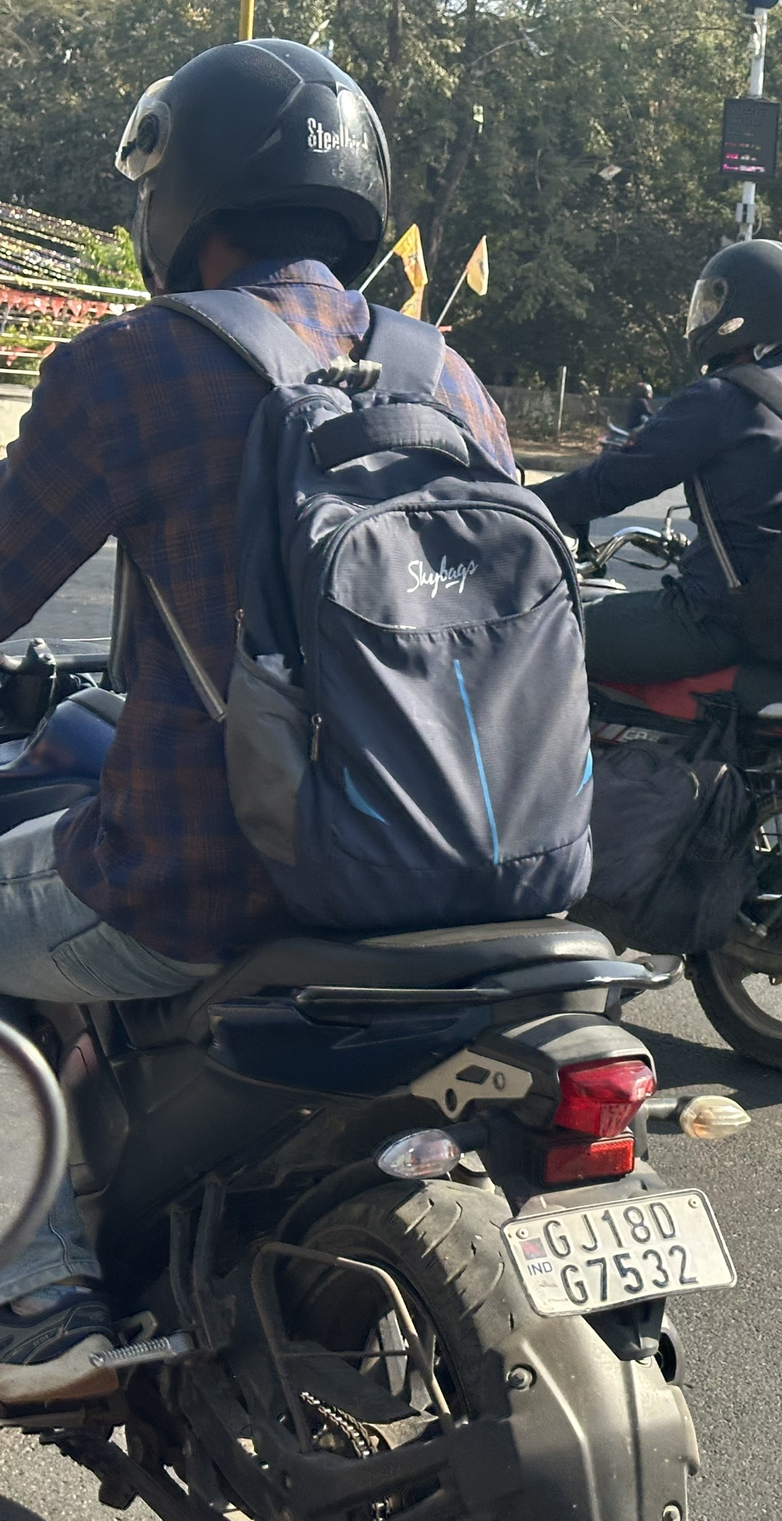BikeWithRider: (4, 21, 714, 1521), (541, 223, 782, 1093)
Helmet: (97, 23, 384, 305), (677, 230, 782, 376)
